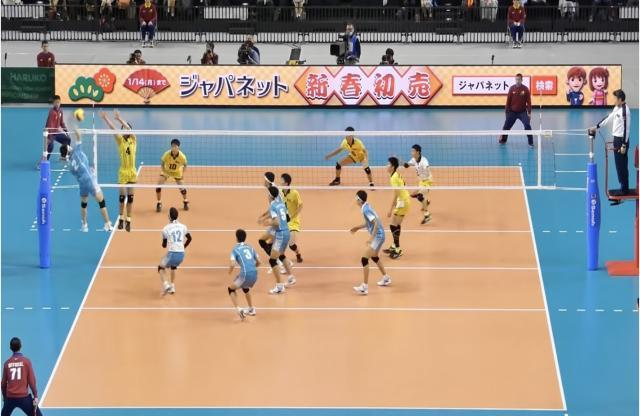spike: (57, 103, 114, 243)
